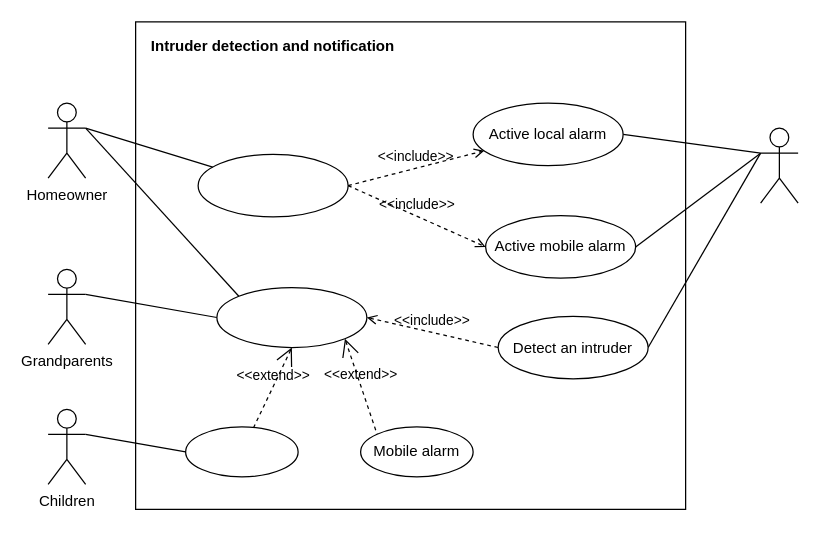
Some shapes in this 825 by 533 pixel diagram are drawn without their labels. Here are the shapes that lost their labels. From the top down, the centre of each, then its label:
pixel 272 185: Configure wireless access sensors
pixel 778 165: Senors
pixel 291 317: Wireless alarm and notification
pixel 241 451: Local alarm
